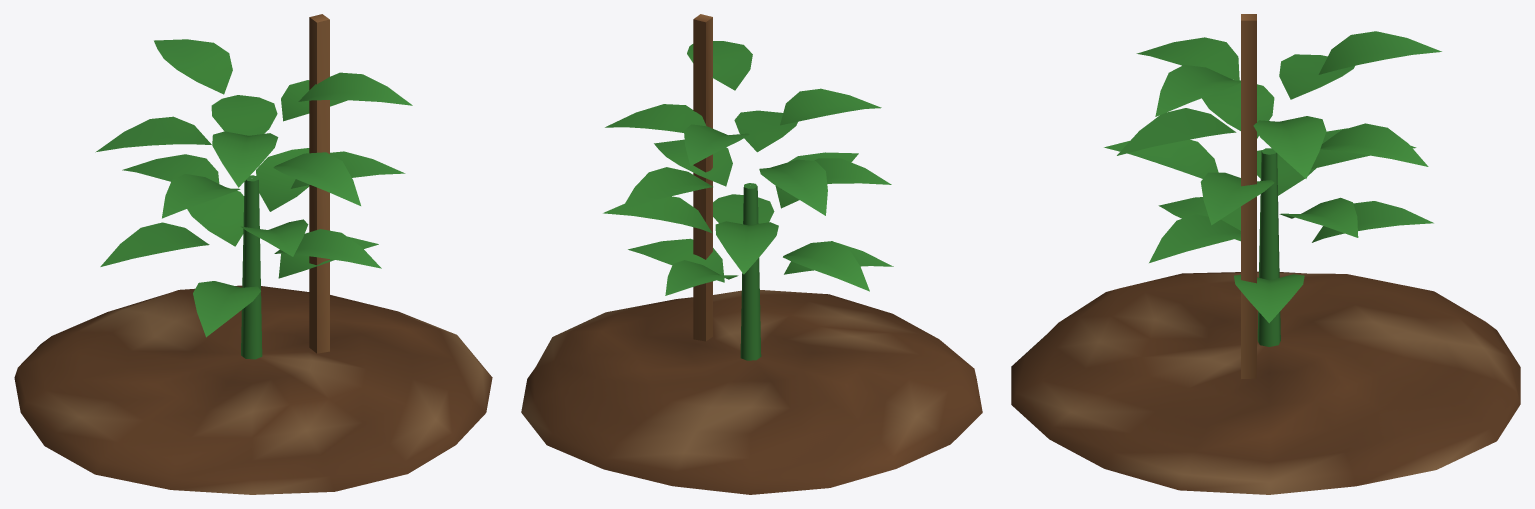
The model's file is plant-tomato-4.gltf.
The picture shows the model from 3 angles, left to right: view 1: azimuth 30°, elevation 25°; view 2: azimuth 150°, elevation 25°; view 3: azimuth 270°, elevation 25°; orthographic projection. The views are drawn at different scales.
Size of the model in its own units: 1.28 by 1.09 by 1.26.
